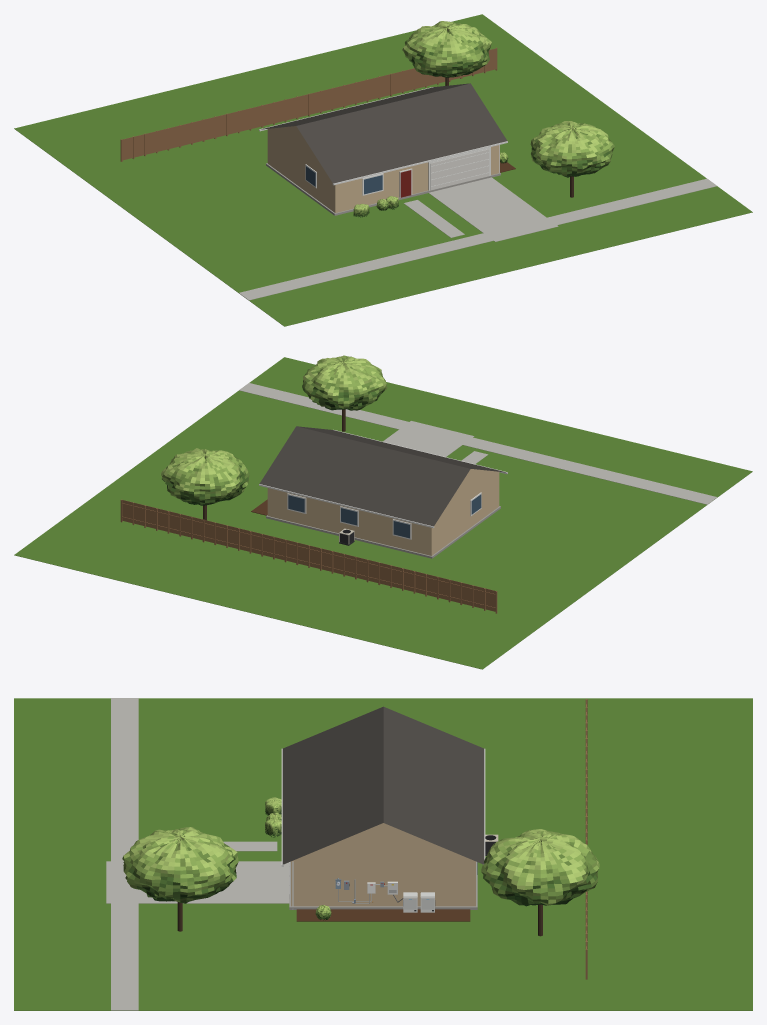
The model's file is home_06_post_install.obj.
3 renders of one model, top to bottom at view 1: azimuth 30°, elevation 25°; view 2: azimuth 150°, elevation 25°; view 3: azimuth 270°, elevation 25°, orthographic. The views are drawn at different scales.
Parts seen in each view (by area): view 1: yard, house, tree_2, tree_1; view 2: yard, house, tree_2, tree_1; view 3: yard, house, tree_2, tree_1, mulch_bed_side.
Boxes of the visible parts, x1,y1,x2,y2 form: yard: (14, 14, 752, 326); house: (259, 83, 507, 215); tree_2: (402, 21, 491, 85); tree_1: (530, 121, 614, 197); yard: (14, 357, 752, 669); house: (259, 426, 507, 558); tree_2: (161, 448, 249, 520); tree_1: (302, 355, 387, 431); yard: (14, 698, 752, 1010); house: (281, 706, 485, 909); tree_2: (481, 829, 599, 936); tree_1: (122, 827, 238, 931); mulch_bed_side: (296, 909, 470, 921).
Size of the model in its own units: 40 by 5.87 by 40.
